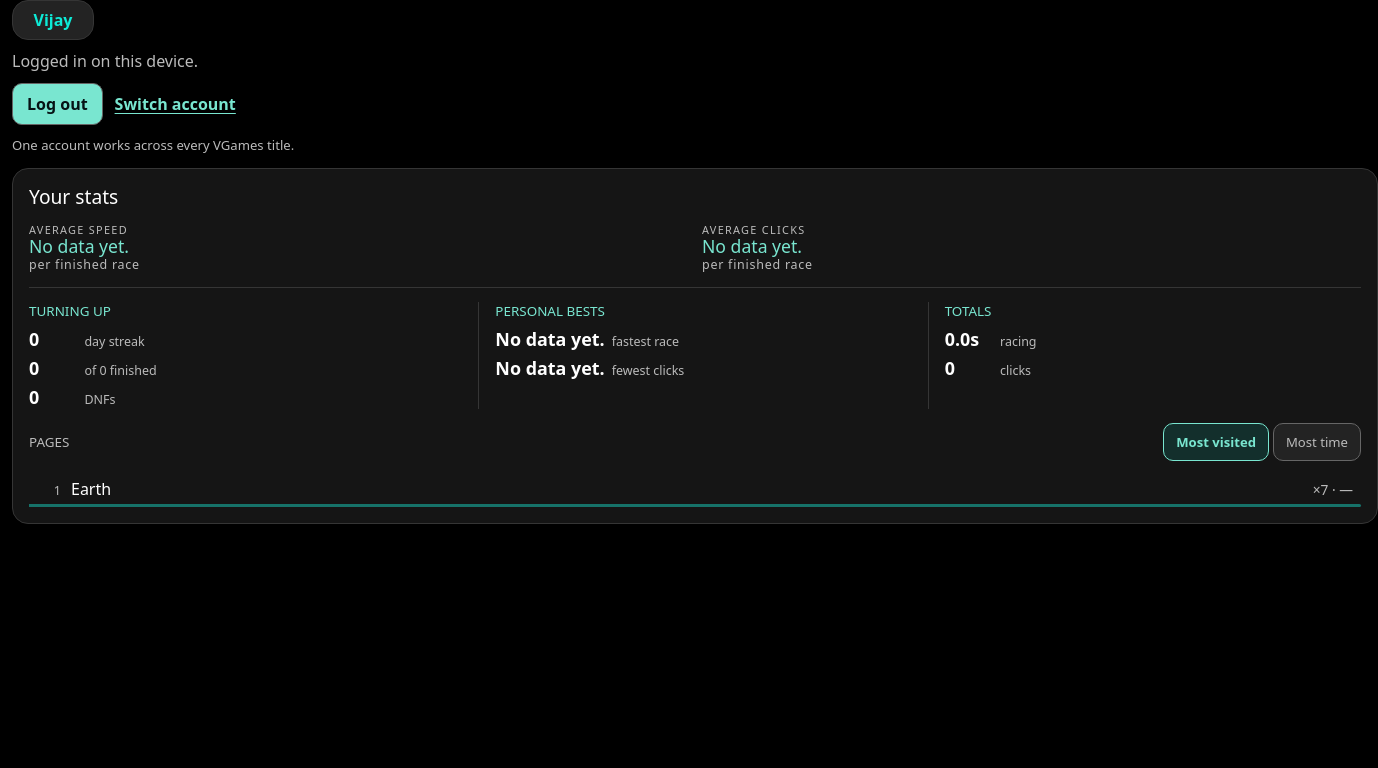
You: Most visited / Most time spent toggle › shows 'No data yet.' on the time side even when visits exist
What coordinates should you click on to do the following:
click the tab "Most time"
I would click on:
 (1317, 442)
Its box is [1273,423,1361,461].
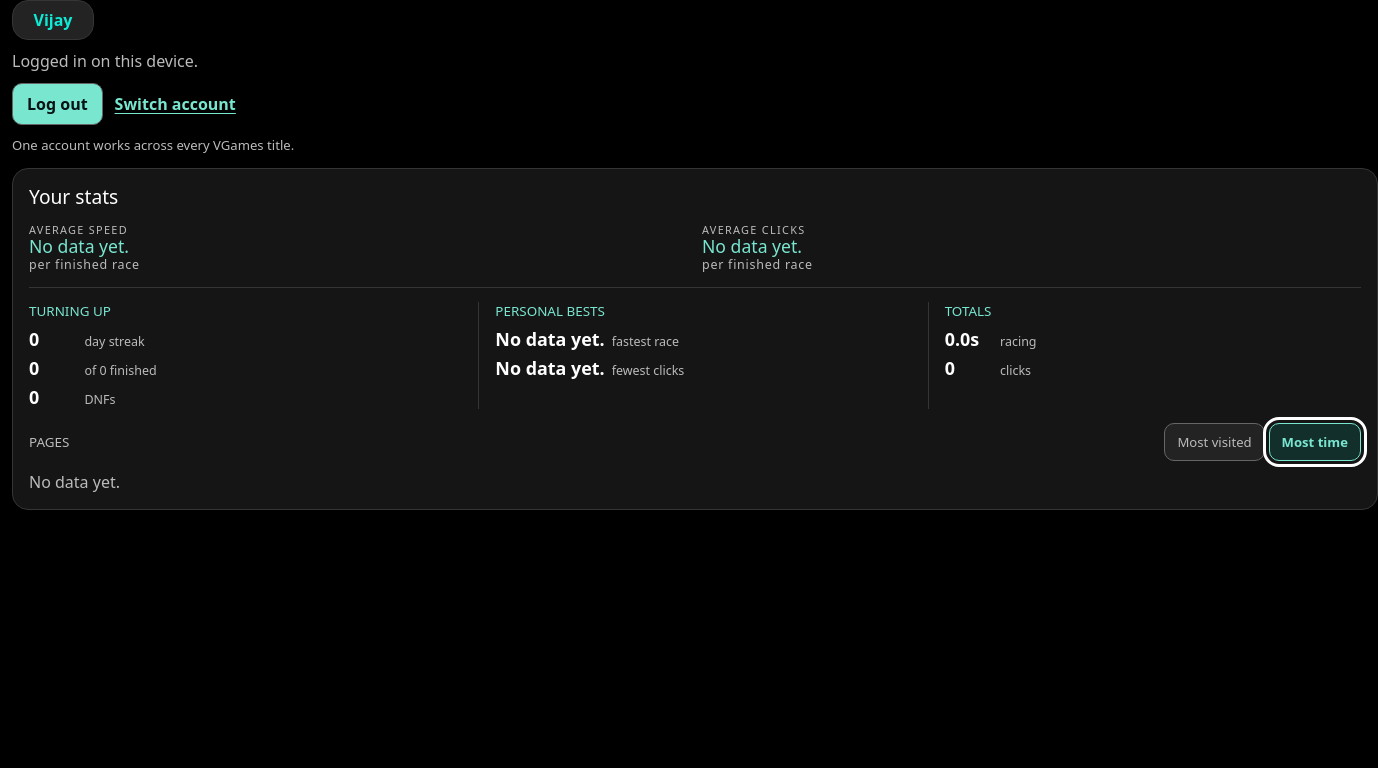
Check: the element with class "you-pages" shows "No data yet.", box [29,471,120,493]
